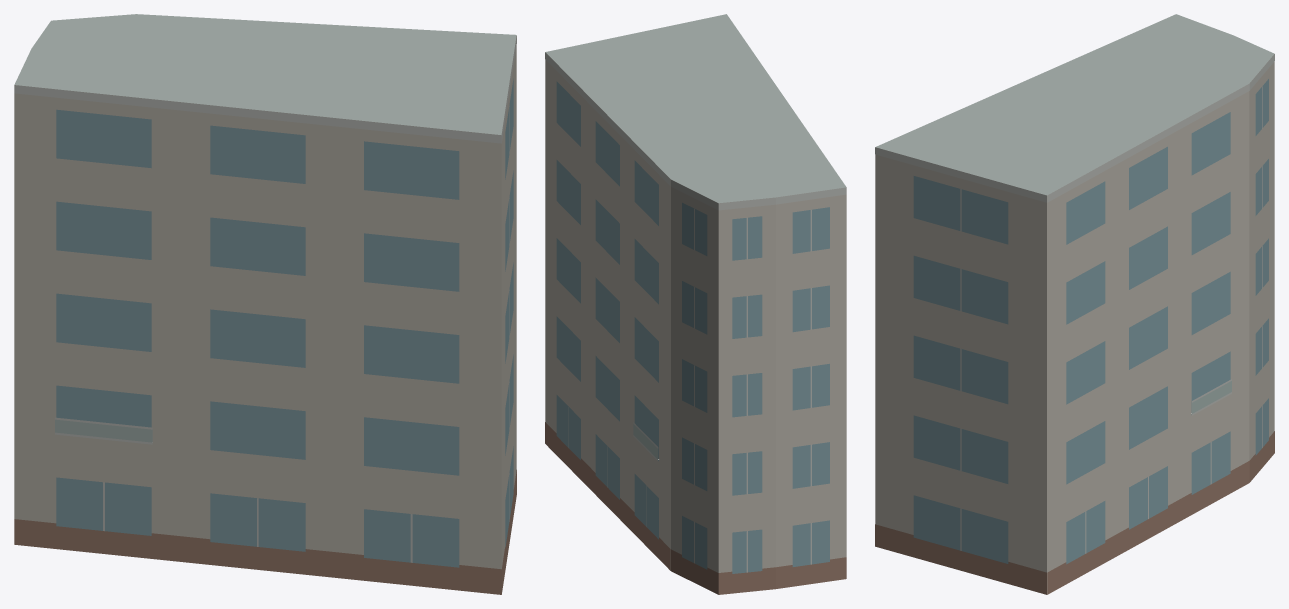
File: survey-upis-33038159.glb
3 views of the same model, side by side, from view 1: azimuth 30°, elevation 25°; view 2: azimuth 150°, elevation 25°; view 3: azimuth 270°, elevation 25° (orthographic). The views are drawn at different scales.
Visible parts, largest first — view 1: survey-upis-33038159.tmp; view 2: survey-upis-33038159.tmp; view 3: survey-upis-33038159.tmp.
Boxes of the visible parts, x1,y1,x2,y2 form: survey-upis-33038159.tmp: (14, 14, 516, 594); survey-upis-33038159.tmp: (545, 14, 846, 594); survey-upis-33038159.tmp: (875, 14, 1274, 594).
Size of the model in its own units: 12.97 by 13.3 by 12.07.
